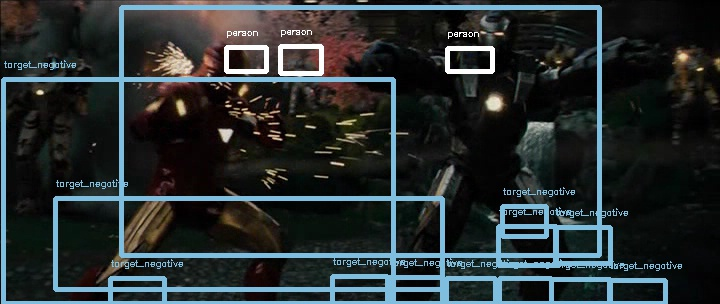person: (199, 37, 253, 93), (198, 37, 252, 93), (200, 37, 254, 93), (199, 36, 253, 92), (199, 38, 253, 94)
target_negative: (454, 66, 626, 212), (275, 236, 612, 293), (190, 113, 357, 193), (129, 119, 180, 299), (164, 269, 397, 279), (597, 197, 627, 241)
